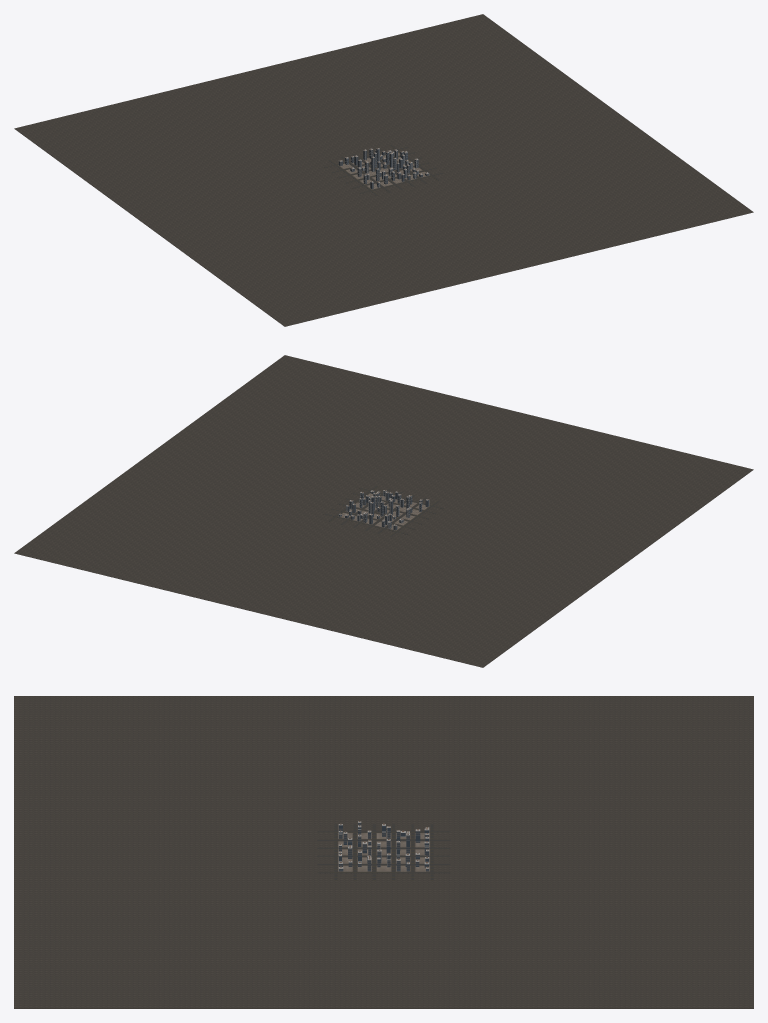
Rendered from ciudad.glb.
3 views of the same model, one above another, from view 1: azimuth 30°, elevation 25°; view 2: azimuth 150°, elevation 25°; view 3: azimuth 270°, elevation 25° (orthographic). The views are drawn at different scales.
Parts seen in each view (by area): view 1: grupo_hormigon_oscuro, grupo_vidrio, grupo_antepecho, grupo_calle, grupo_aluminio, grupo_vereda; view 2: grupo_hormigon_oscuro, grupo_vidrio, grupo_calle, grupo_antepecho, grupo_aluminio, grupo_vereda; view 3: grupo_hormigon_oscuro, grupo_calle, grupo_vereda, grupo_vidrio, grupo_antepecho, grupo_aluminio.
Part boxes in pixels (x1=…): grupo_hormigon_oscuro: x1=14, y1=14, x2=753, y2=326; grupo_vidrio: x1=339, y1=149, x2=428, y2=189; grupo_antepecho: x1=339, y1=149, x2=428, y2=188; grupo_calle: x1=324, y1=145, x2=443, y2=195; grupo_aluminio: x1=338, y1=148, x2=429, y2=187; grupo_vereda: x1=338, y1=152, x2=428, y2=189; grupo_hormigon_oscuro: x1=14, y1=355, x2=753, y2=667; grupo_vidrio: x1=339, y1=491, x2=428, y2=529; grupo_calle: x1=324, y1=486, x2=443, y2=536; grupo_antepecho: x1=339, y1=491, x2=428, y2=529; grupo_aluminio: x1=338, y1=490, x2=429, y2=529; grupo_vereda: x1=339, y1=493, x2=429, y2=530; grupo_hormigon_oscuro: x1=14, y1=696, x2=753, y2=1008; grupo_calle: x1=317, y1=824, x2=450, y2=880; grupo_vereda: x1=338, y1=833, x2=429, y2=871; grupo_vidrio: x1=339, y1=823, x2=428, y2=871; grupo_antepecho: x1=339, y1=823, x2=428, y2=870; grupo_aluminio: x1=338, y1=821, x2=429, y2=870.
Size of the model in its own units: 4000 by 123 by 4000.
Materials: 10 (7 with a texture image).
